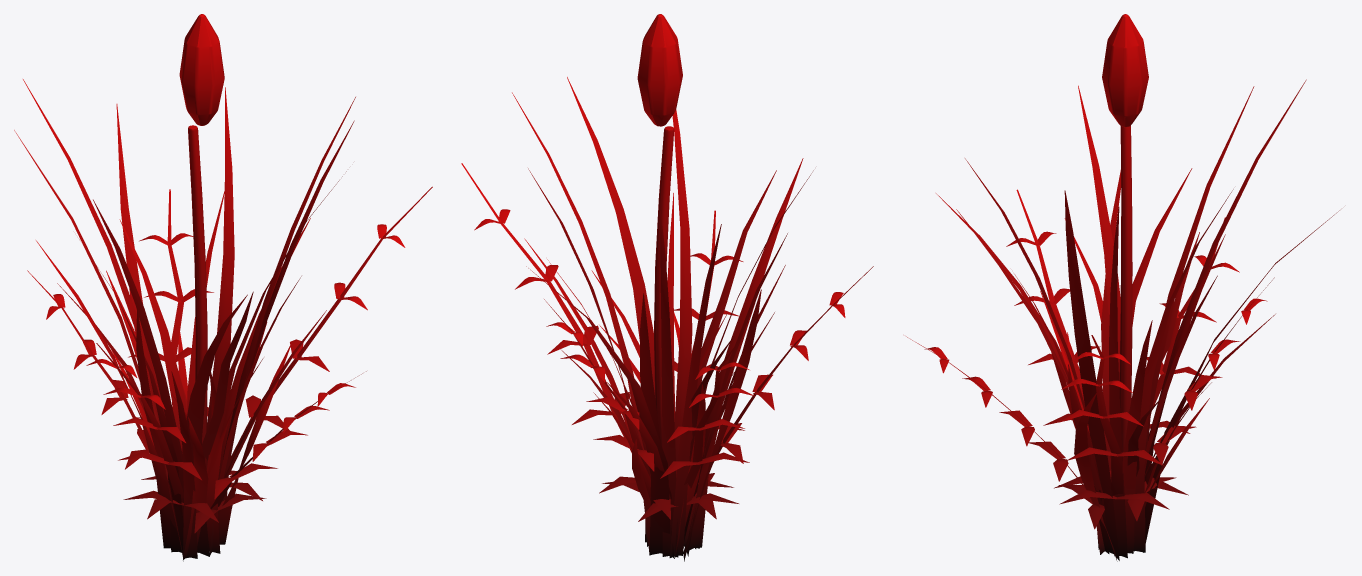
File: foliage-kit.glb
The picture shows the model from 3 angles, left to right: view 1: azimuth 30°, elevation 25°; view 2: azimuth 150°, elevation 25°; view 3: azimuth 270°, elevation 25°; orthographic projection.
Parts seen in each view (by area): view 1: grass-c, fern-a, grass-b, reed-a, grass-a; view 2: grass-c, fern-a, reed-a, grass-b, grass-a; view 3: grass-c, fern-a, reed-a, grass-b, grass-a.
Boxes of the visible parts, <box> form: grass-c: <box>14,79,355,556</box>; fern-a: <box>27,186,432,533</box>; grass-b: <box>36,191,326,561</box>; reed-a: <box>57,14,267,552</box>; grass-a: <box>111,332,291,559</box>; grass-c: <box>512,77,813,557</box>; fern-a: <box>461,163,873,521</box>; reed-a: <box>560,14,776,468</box>; grass-b: <box>524,193,785,561</box>; grass-a: <box>593,312,734,558</box>; grass-c: <box>936,79,1339,560</box>; fern-a: <box>906,189,1274,529</box>; reed-a: <box>956,14,1199,476</box>; grass-b: <box>1014,168,1275,553</box>; grass-a: <box>1050,318,1216,561</box>.
Bounding box in the file's own units: 0.3262 × 0.444 × 0.3328.
